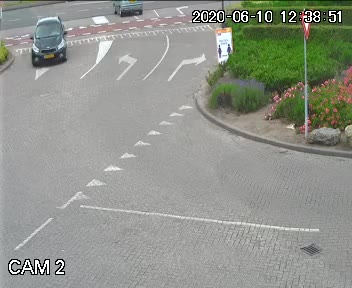car: (31, 13, 71, 69)
